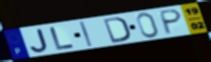0: (135, 11, 161, 39)
D: (102, 16, 132, 44)
I: (78, 20, 94, 48)
J: (29, 27, 50, 53)
L: (48, 26, 76, 51)
P: (159, 8, 184, 36)
